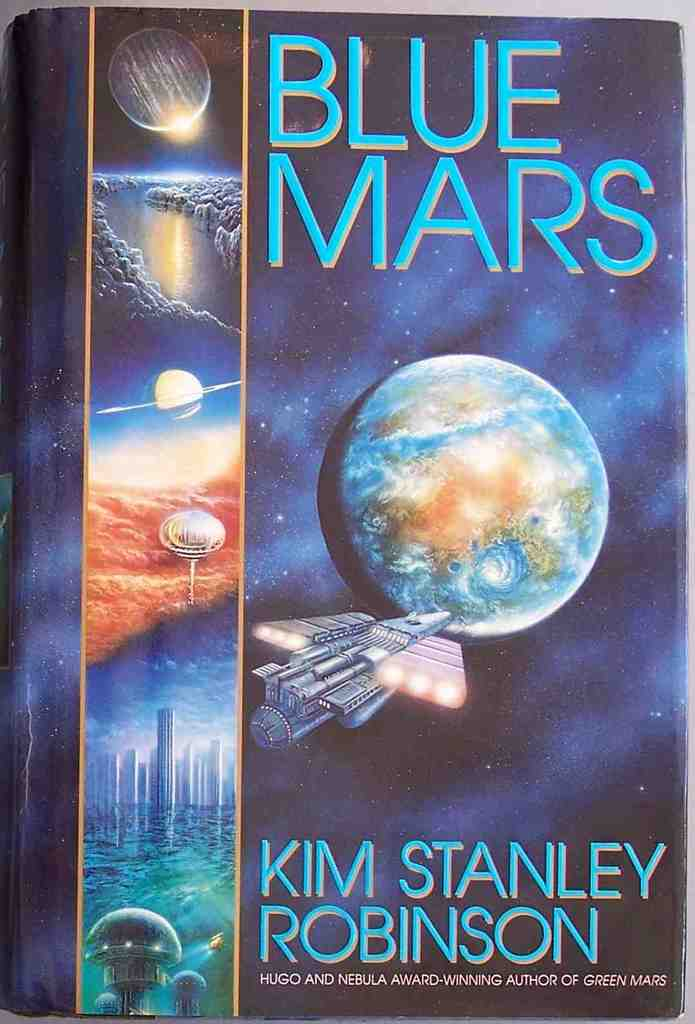Book: (12, 0, 672, 1012)
